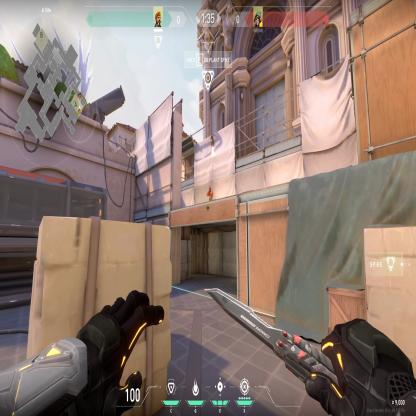enemy: (207, 185, 213, 202)
